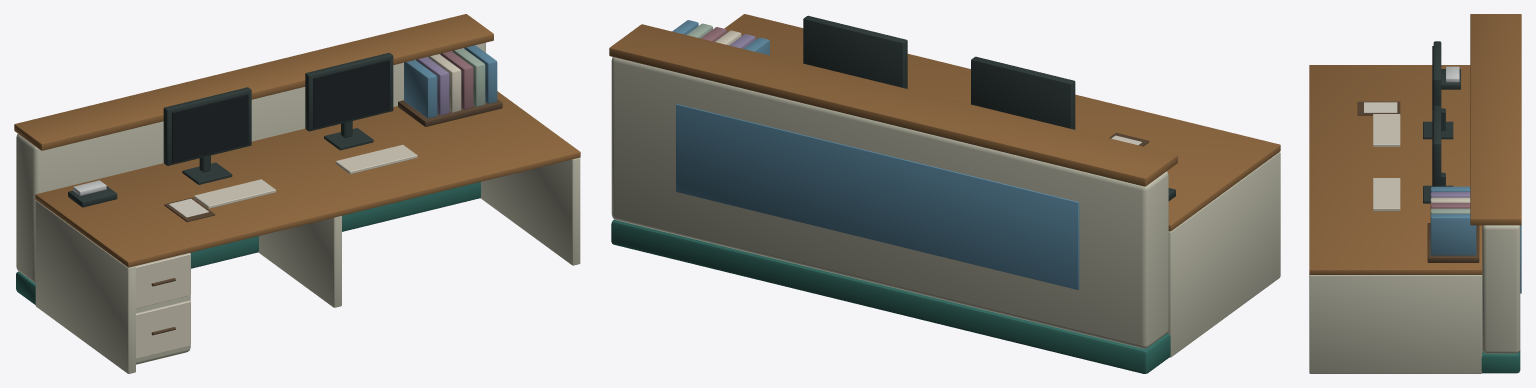
Rendered from nurse-station-desk.glb.
The picture shows the model from 3 angles, left to right: view 1: azimuth 30°, elevation 25°; view 2: azimuth 150°, elevation 25°; view 3: azimuth 270°, elevation 25°; orthographic projection. The views are drawn at different scales.
Parts seen in each view (by area): view 1: nurse-station-desk; view 2: nurse-station-desk; view 3: nurse-station-desk.
Part boxes in pixels (bbox=[...]): nurse-station-desk: bbox=[14, 14, 580, 373]; nurse-station-desk: bbox=[609, 14, 1280, 373]; nurse-station-desk: bbox=[1309, 14, 1521, 373].
Size of the model in its own units: 3.2 by 1.28 by 1.4.
